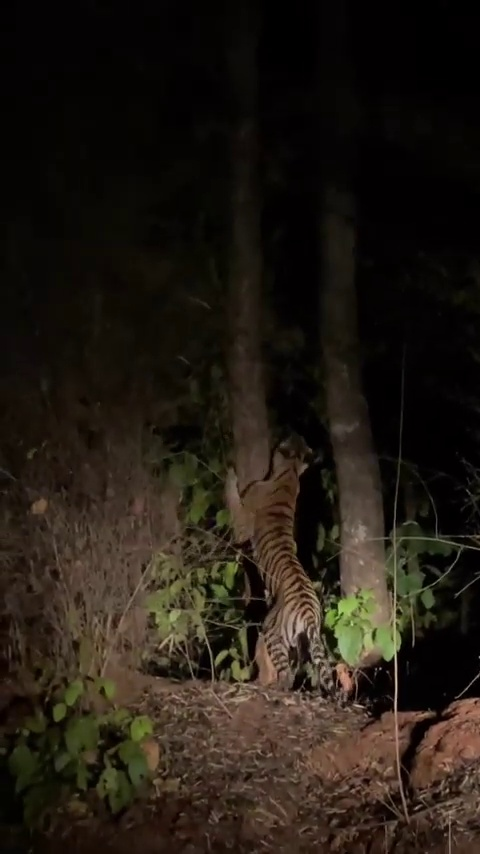Tiger: (222, 432, 368, 709)
